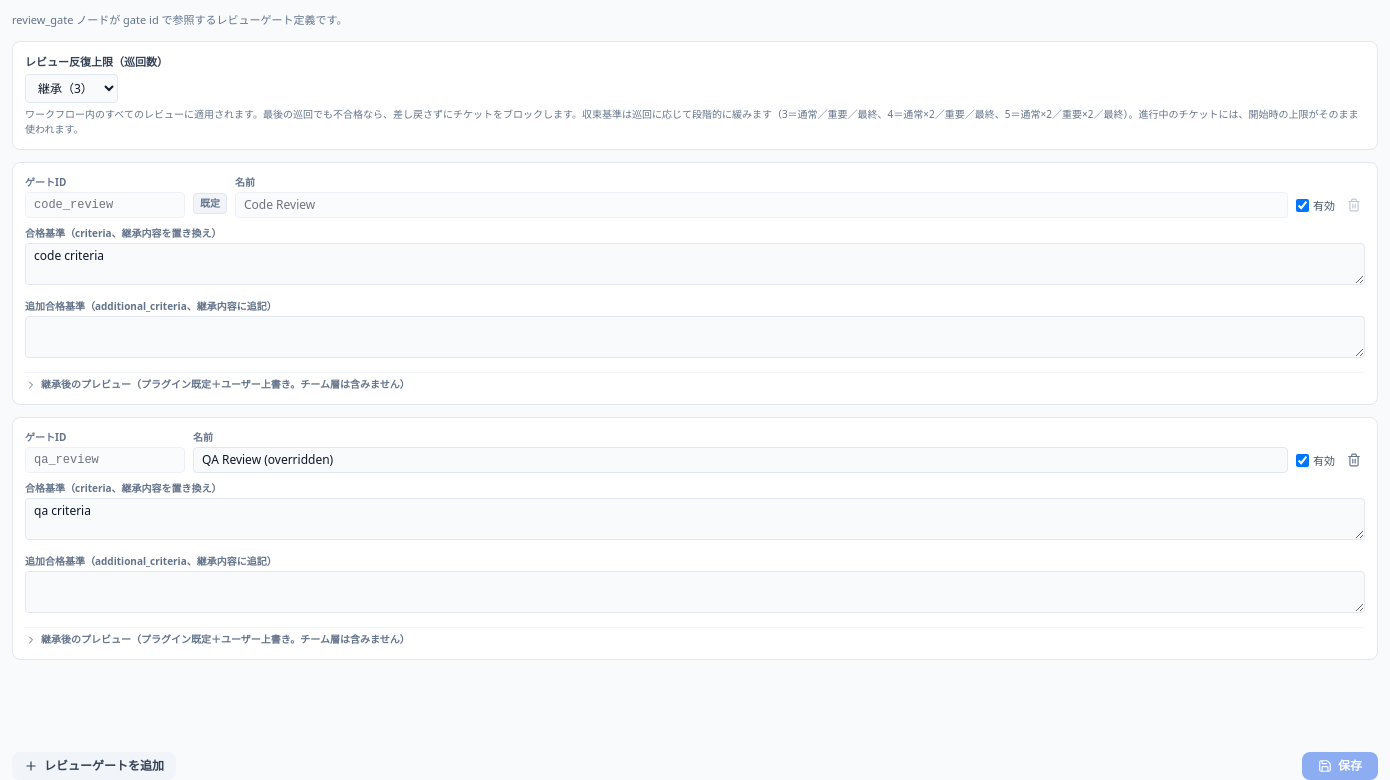
Scenario: ReviewGatesEditor › a row with an empty gate ID › refuses to save (empty), shows an error and keeps the input
Check: the 1st field showing "Code Review" is shown, box left=235, top=192, right=1288, bottom=218
Click the button "レビューゲートを追加".
click(94, 766)  # box left=12, top=752, right=176, bottom=779
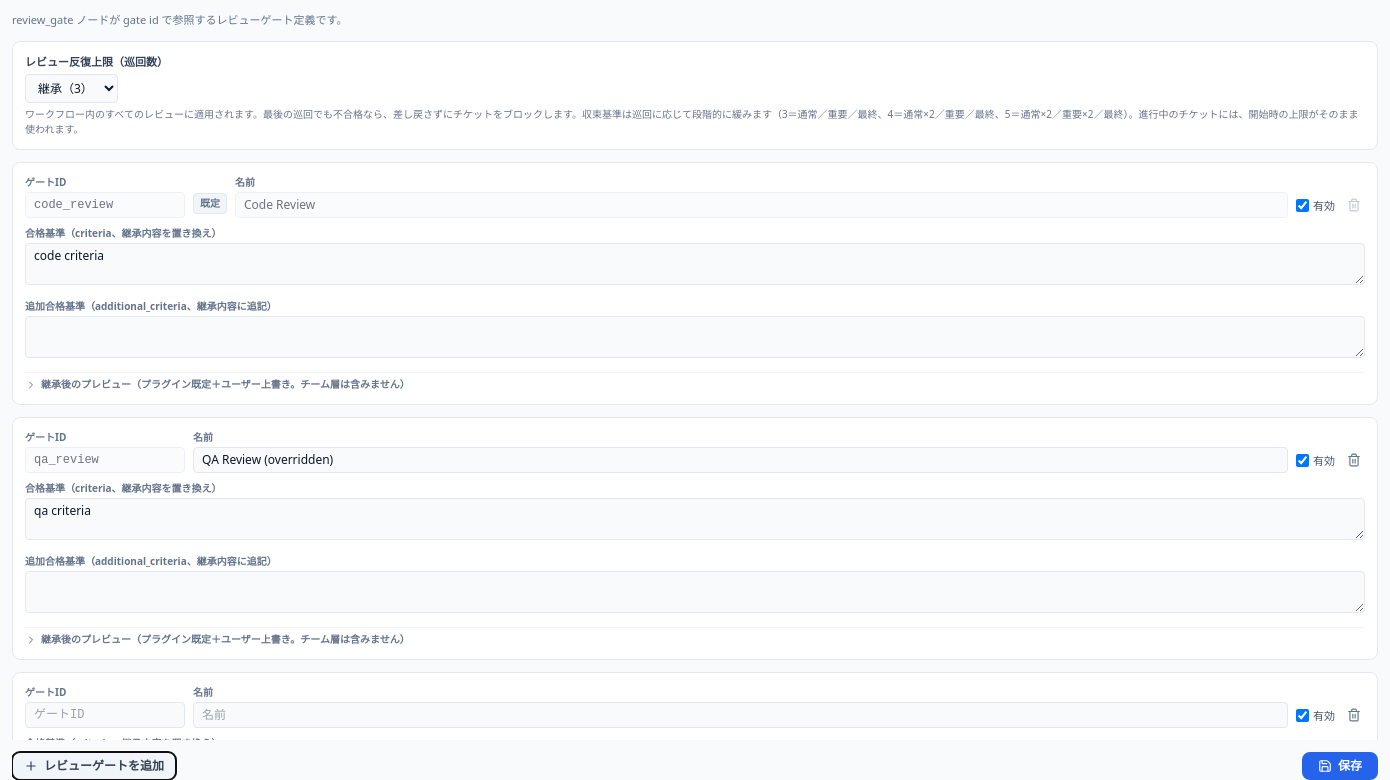
Type "Unnamed Gate" into the 3rd field labelled "名前".
click(740, 715); type("Unnamed Gate")  # box left=193, top=702, right=1288, bottom=728
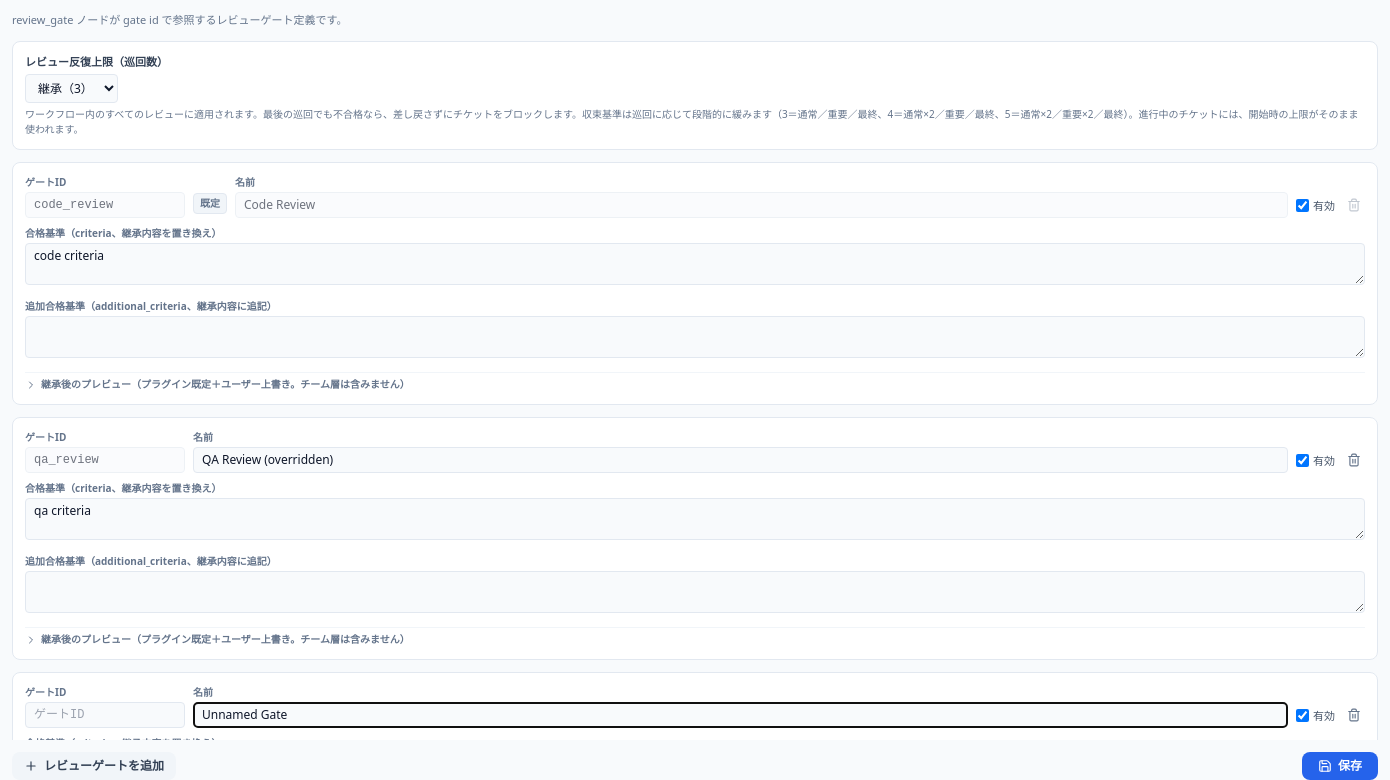
Click the button "保存".
click(1340, 766)  # box left=1302, top=752, right=1378, bottom=779
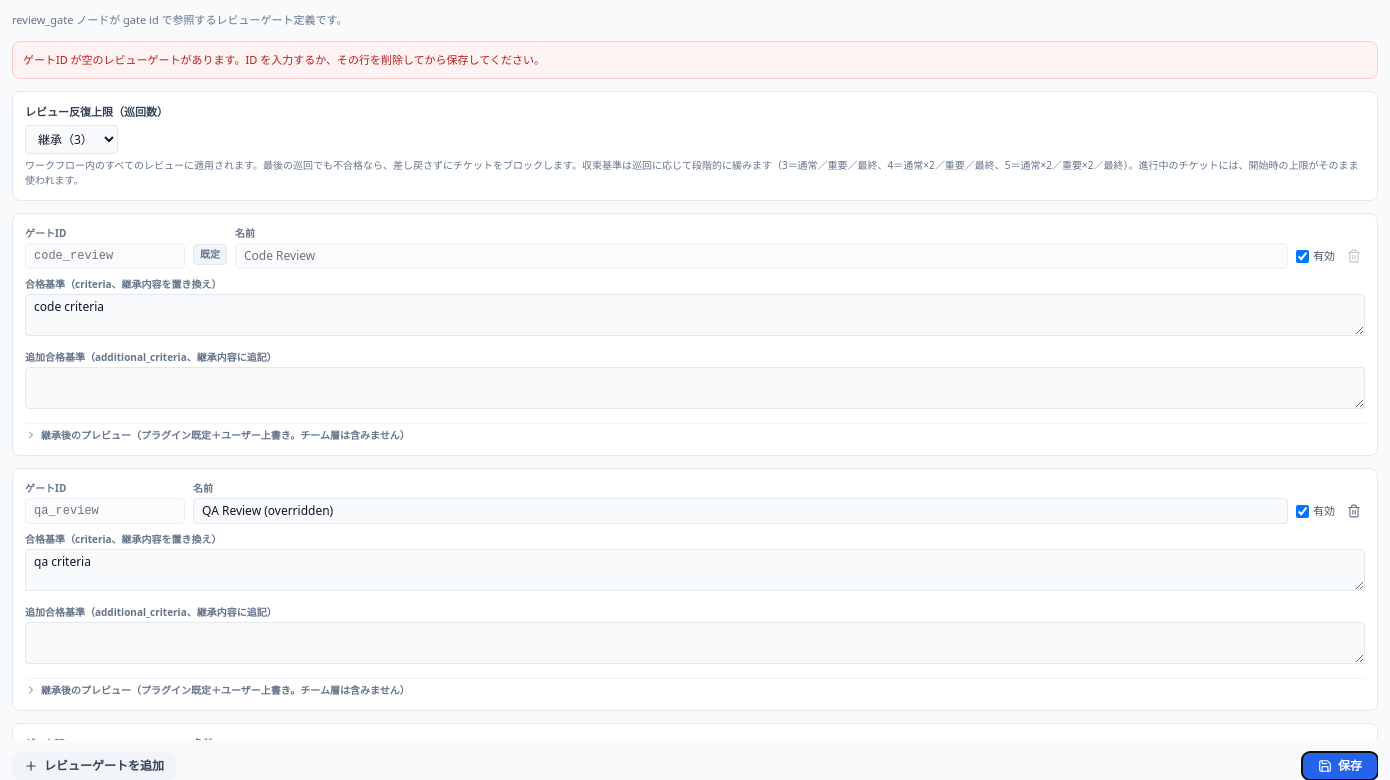
Check: the message reads "ゲートID が空のレビューゲートがあります。ID を入力するか、その行を削除してから保存してください。", box left=23, top=52, right=545, bottom=66
